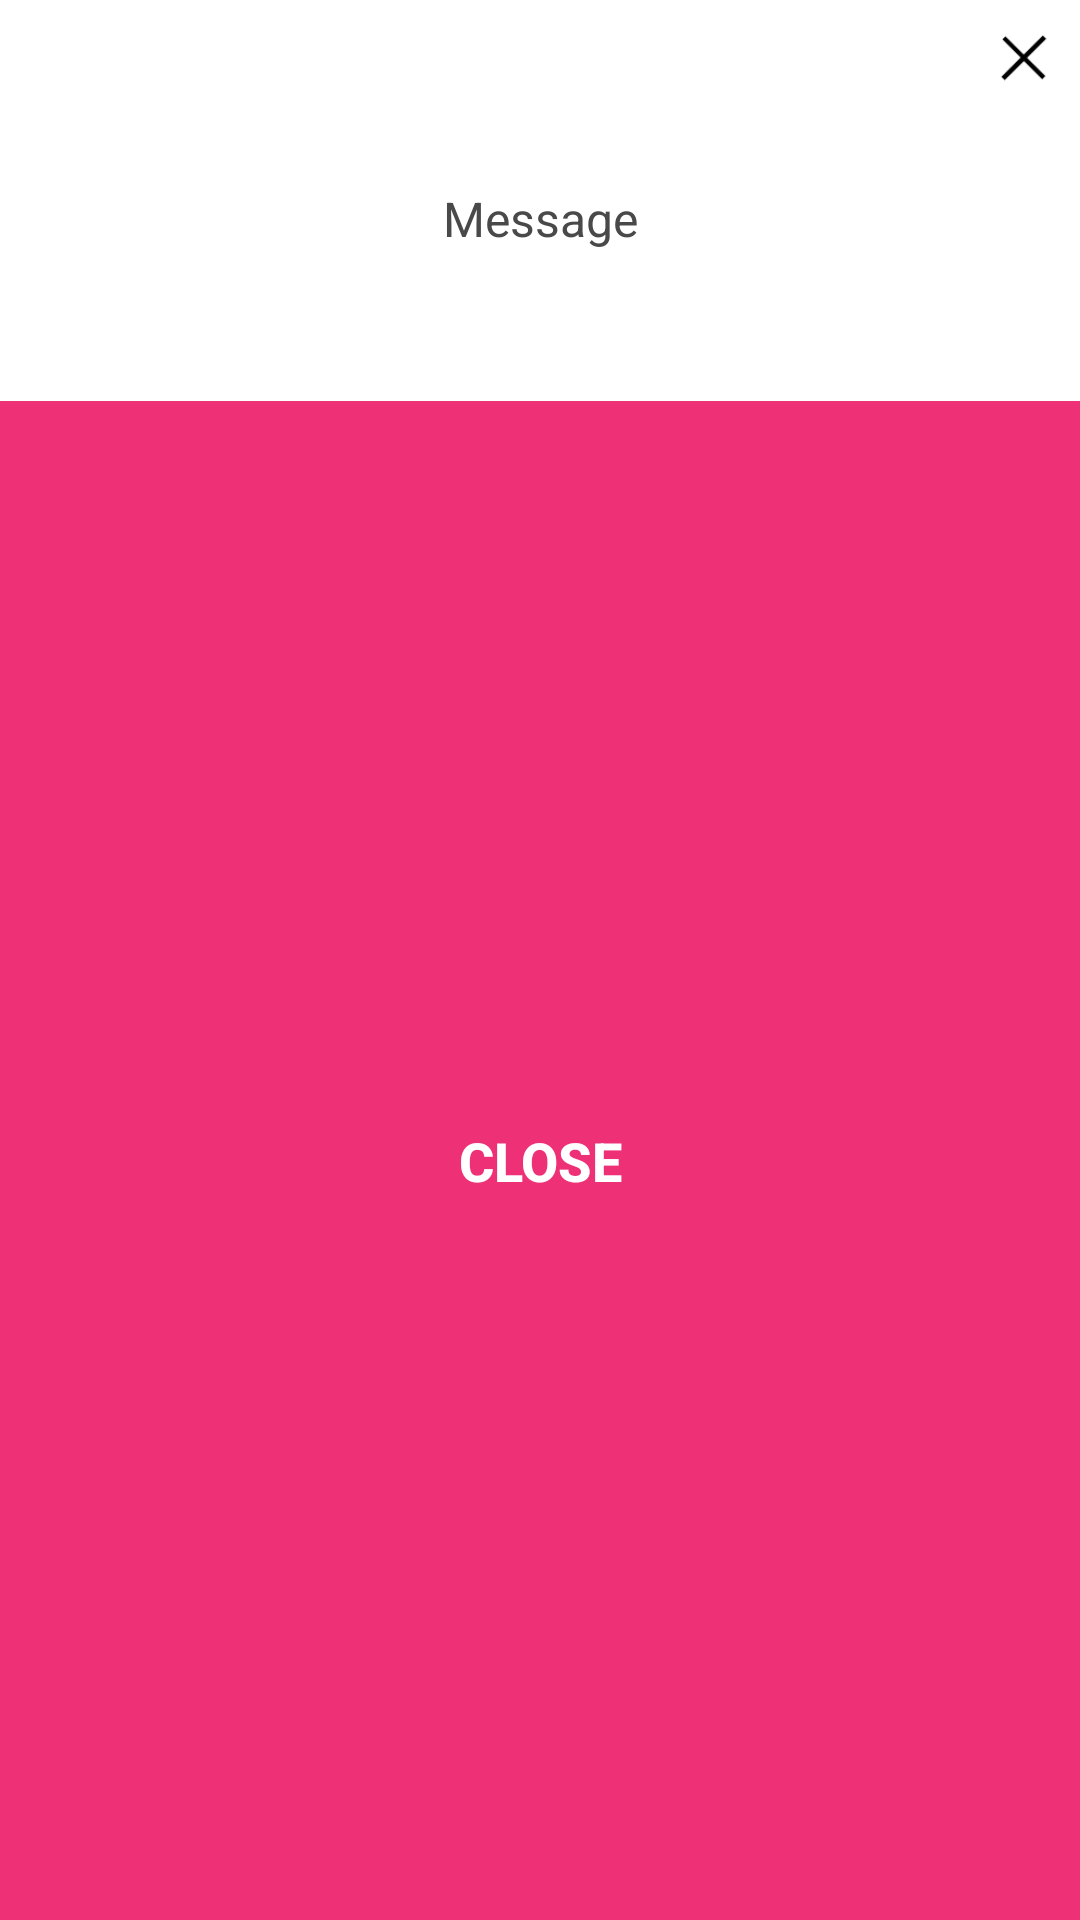

Icons on this 1080×1920 Android screen, each with the point to tap as (x,y):
close: (1024,58)
